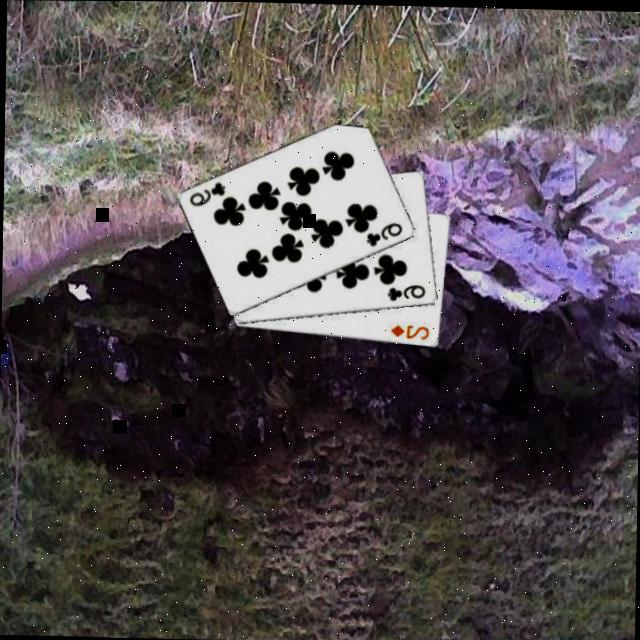2D: (386, 321, 430, 342)
9C: (361, 219, 404, 250), (184, 179, 226, 210), (382, 281, 426, 304)
